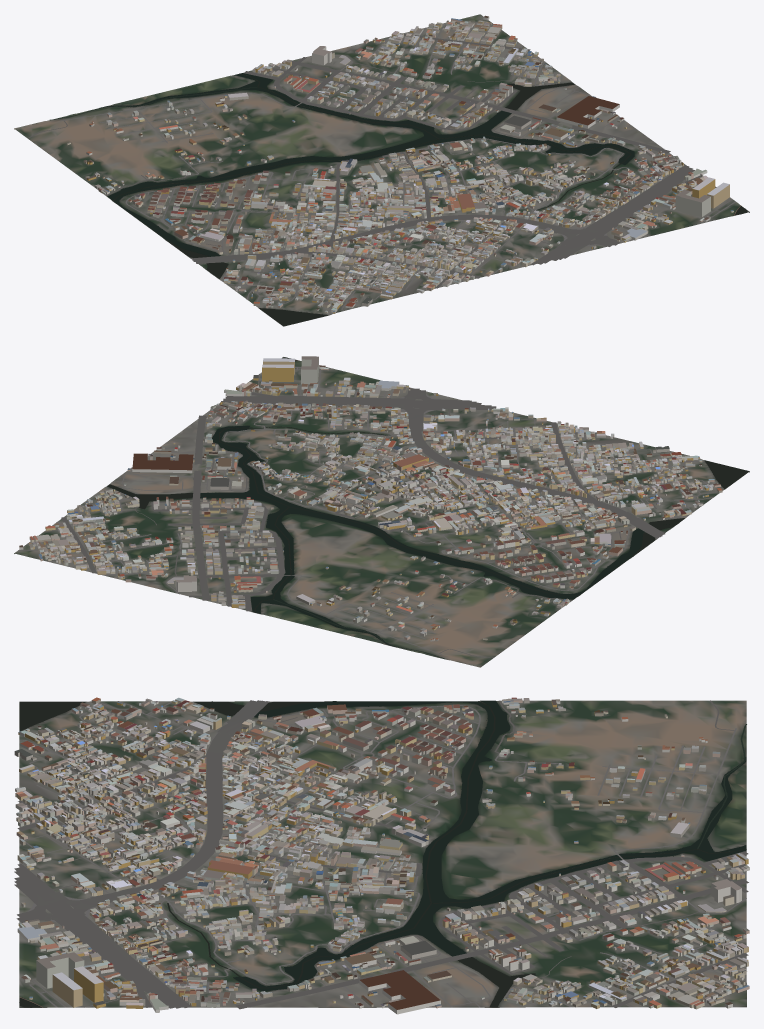
The picture shows the model from 3 angles, top to bottom: view 1: azimuth 30°, elevation 25°; view 2: azimuth 150°, elevation 25°; view 3: azimuth 270°, elevation 25°; orthographic projection. The views are drawn at different scales.
Parts seen in each view (by area): view 1: ground, buildings, roads, water; view 2: ground, buildings, roads, water; view 3: ground, buildings, roads, water.
Part boxes in pixels (box(x1,y1,x2,y2)): ground: box(14, 14, 749, 326); buildings: box(66, 15, 733, 313); roads: box(27, 18, 740, 311); water: box(50, 73, 747, 325); ground: box(14, 357, 749, 667); buildings: box(19, 356, 722, 641); roads: box(18, 360, 716, 657); water: box(107, 357, 748, 659); ground: box(19, 700, 746, 1007); buildings: box(14, 697, 749, 1014); roads: box(14, 700, 748, 1009); water: box(19, 700, 746, 1007).
Bounding box in the file's own units: 1434 × 48.36 × 1417.
